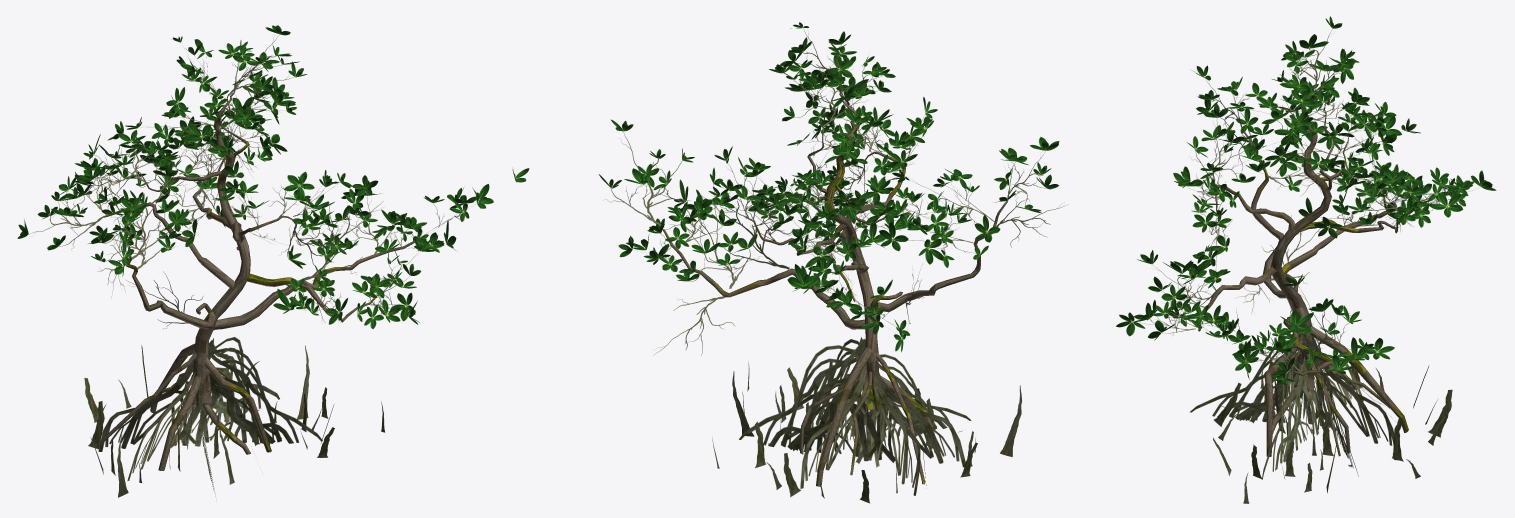
The model's file is mangrove_b.glb.
The picture shows the model from 3 angles, left to right: view 1: azimuth 30°, elevation 25°; view 2: azimuth 150°, elevation 25°; view 3: azimuth 270°, elevation 25°; orthographic projection.
Visible parts, largest first — view 1: Plane_w; view 2: Plane_w; view 3: Plane_w.
Part boxes in pixels (x1=…): Plane_w: x1=17, y1=25, x2=529, y2=498; Plane_w: x1=599, y1=22, x2=1068, y2=503; Plane_w: x1=1116, y1=16, x2=1496, y2=503.
Bounding box in the file's own units: 7 × 6.13 × 5.03.
Materials: 2 (2 with a texture image).
